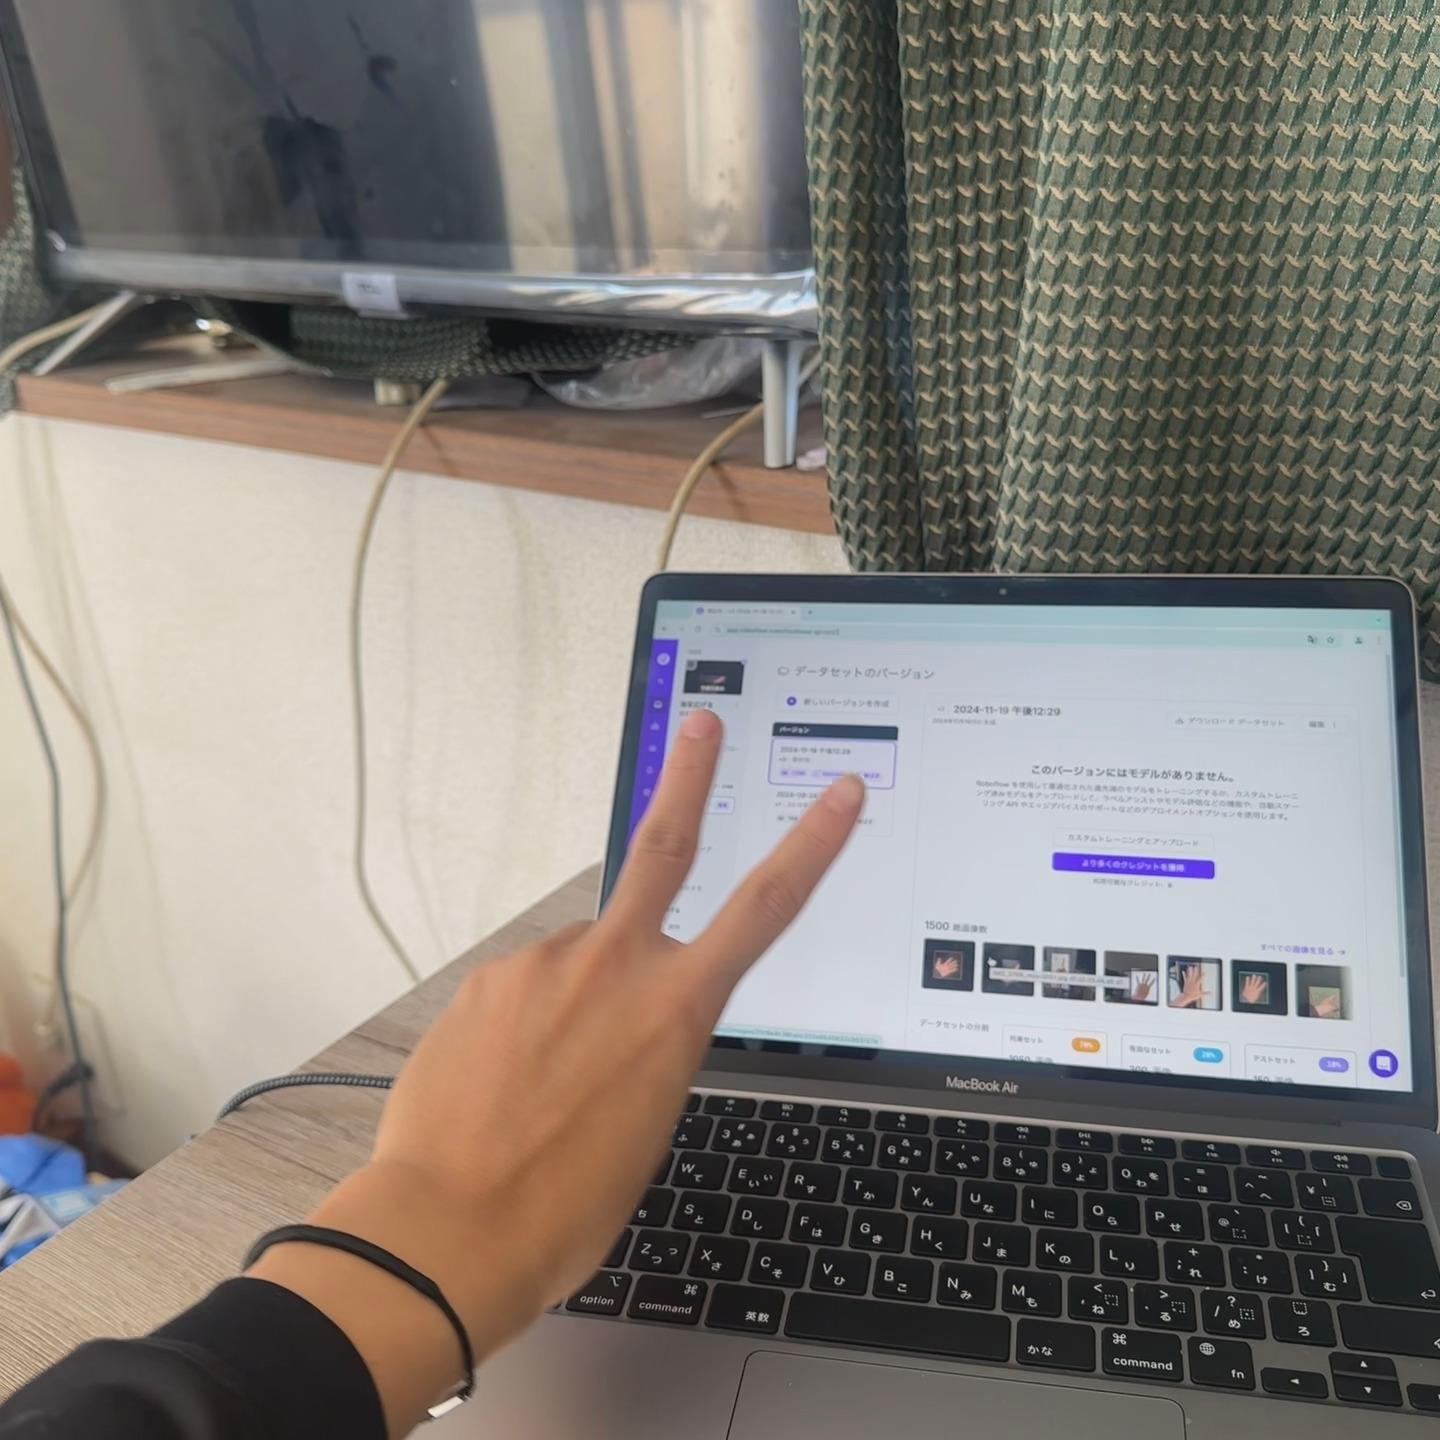without_gloves: (277, 568, 924, 1367)
